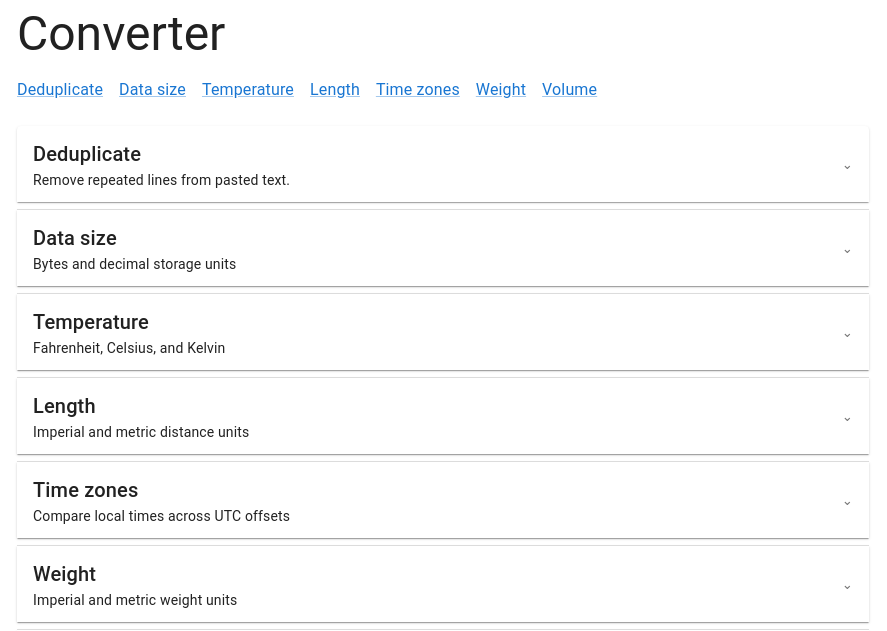
it: converter app › promotes a selected result to the input and recalculates the other outputs
Click the button "Temperature Fahrenheit, Celsius, and Kelvin ⌄": x=91, y=322 [17, 294, 869, 370]
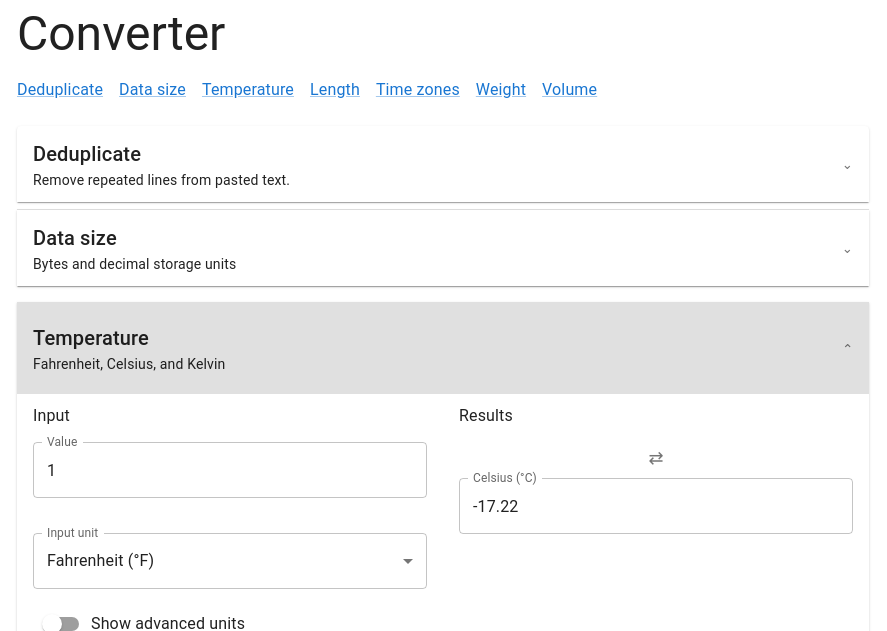
Replace the text in the number field labelled "Value" with "32": x=230, y=470 [33, 442, 427, 498]
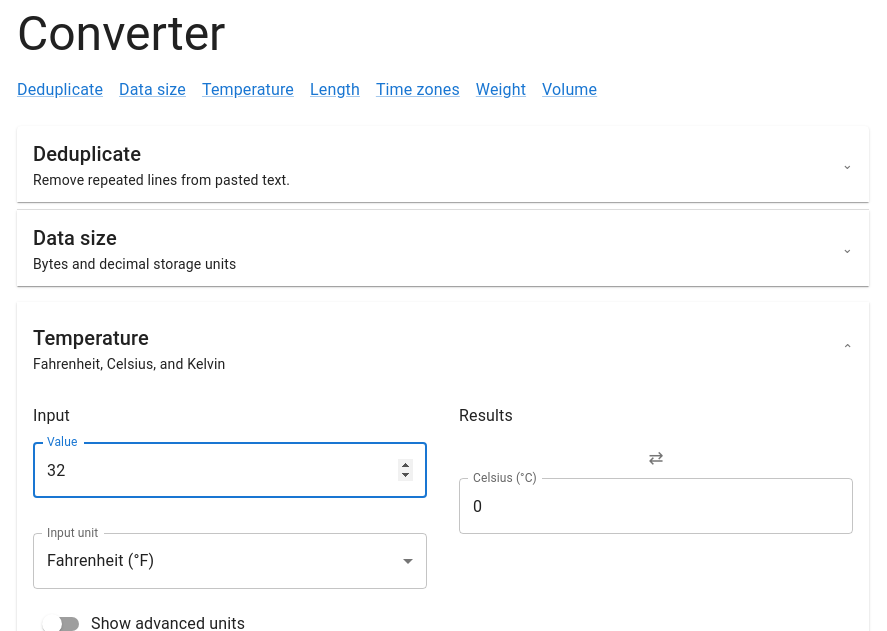
Click the button named "use celsius as input": x=656, y=458 [644, 442, 669, 474]
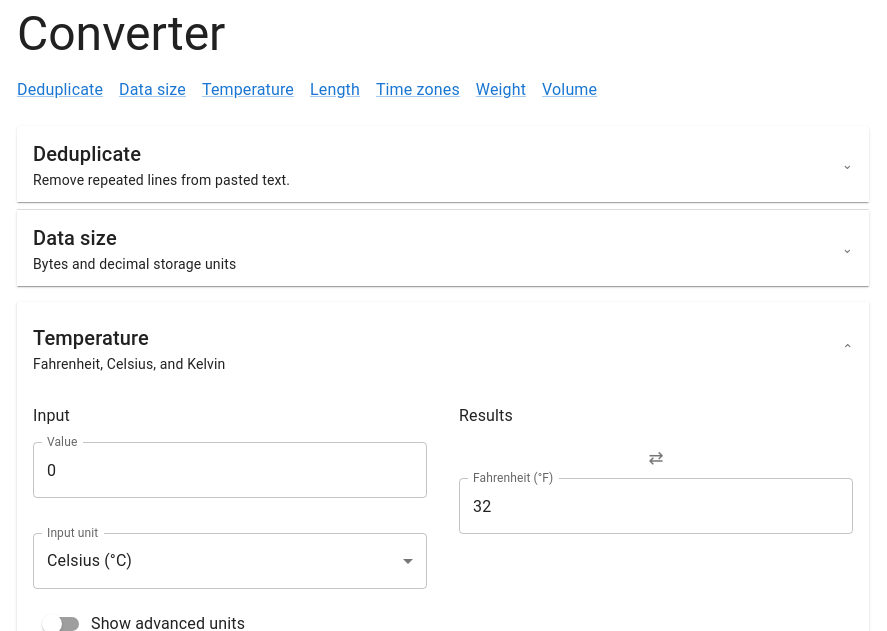
Expected: the number field labelled "Value" holds "0", [33, 442, 427, 498]
Expected: the dropdown named "input unit" reads "Celsius (°C)", [47, 552, 132, 570]
